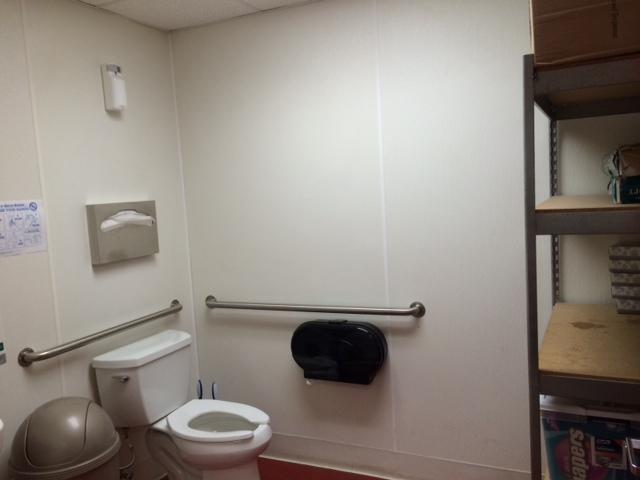dispenser: (285, 318, 397, 398), (78, 197, 173, 272), (94, 52, 135, 125)
restroom_assist_bar: (25, 303, 180, 365), (208, 300, 422, 316)
toilet: (91, 329, 272, 480)
waste_bin: (5, 395, 118, 480)
